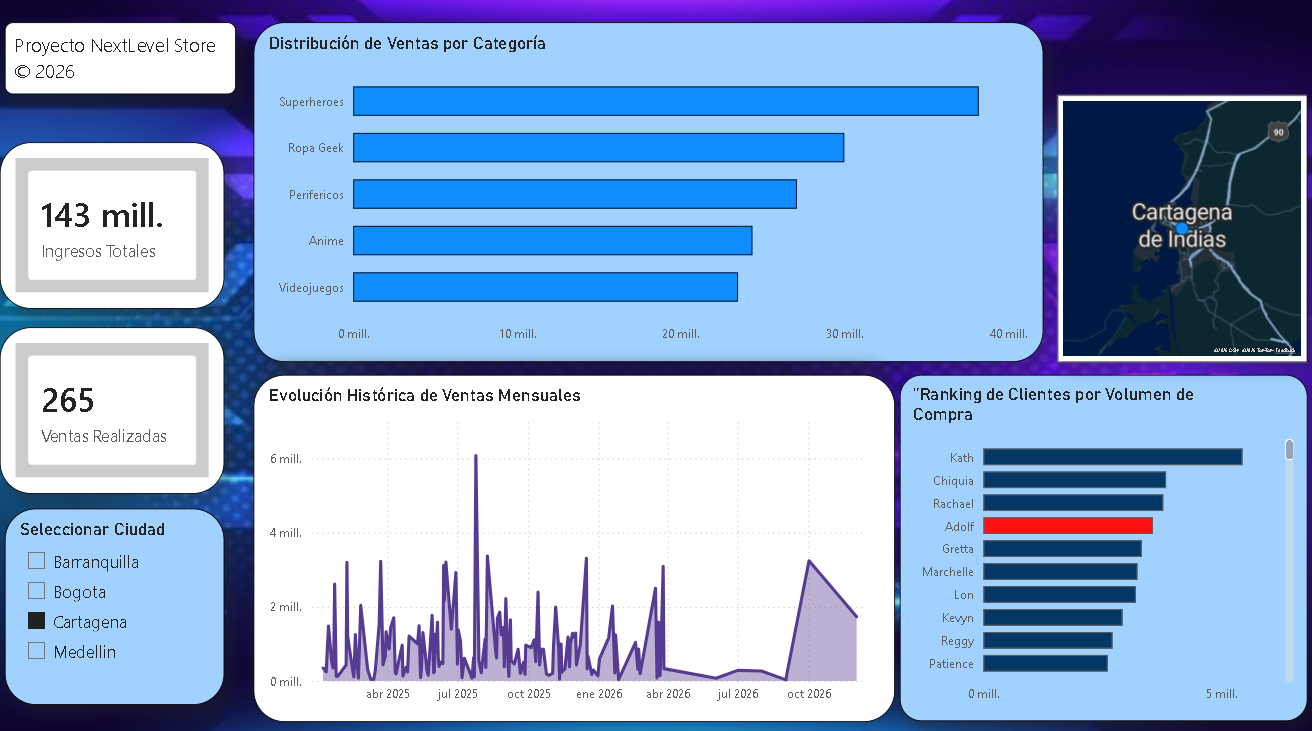

The dashboard page shown, as its layout file describes it:
{"tool":"powerbi","page":{"name":"Página 1","canvas":[1280,720],"ordinal":0},"visuals":[{"type":"cardVisual","fields":{"Data":["Sum(Detalle.Subtotal)"]},"box":[8.4,146,217.2,160.5],"z":0},{"type":"cardVisual","fields":{"Data":["CountNonNull(Detalle.id_venta)"]},"box":[8.4,324.5,217.2,160.5],"z":1000},{"type":"clusteredBarChart","title":"Distribución de Ventas por Categoría","fields":{"Category":["Productos.categoria"],"Y":["Sum(Detalle.Subtotal)"]},"box":[253.4,30.2,762.5,328.2],"z":2000},{"type":"slicer","title":"Seleccionar Ciudad","fields":{"Values":["Clientes.ciudad"]},"box":[13.3,499.5,212.3,189.4],"z":3000},{"type":"lineChart","title":"Evolución Histórica de Ventas Mensuales","fields":{"Y":["Sum(Detalle.Subtotal)"],"Category":["Ventas.fecha"]},"box":[253.4,370.4,618.9,335.4],"z":4000},{"type":"clusteredBarChart","title":"\"Ranking de Clientes por Volumen de Compra","fields":{"Category":["Clientes.nombre"],"Y":["Sum(Detalle.Subtotal)"]},"box":[877.1,370.4,393.3,334.2],"z":5000},{"type":"azureMap","fields":{"Category":["Clientes.ciudad"],"Size":["Sum(Detalle.Subtotal)"]},"box":[1029.1,100.1,241.3,258.2],"z":6000},{"type":"textbox","box":[13.3,30.2,223.2,70],"z":7000}]}

Visuals, with their boxes in screenshot pixels (x1, y1, x2, y2), scaled from the page's 1280x720 canvas onto the 1312x731 screenshot:
cardVisual - Sum(Detalle.Subtotal): (9, 148, 231, 311)
cardVisual - CountNonNull(Detalle.id_venta): (9, 329, 231, 492)
"Distribución de Ventas por Categoría" clusteredBarChart: (260, 31, 1041, 364)
"Seleccionar Ciudad" slicer: (14, 507, 231, 699)
"Evolución Histórica de Ventas Mensuales" lineChart: (260, 376, 894, 717)
""Ranking de Clientes por Volumen de Compra" clusteredBarChart: (899, 376, 1302, 715)
azureMap - Clientes.ciudad x Sum(Detalle.Subtotal): (1055, 102, 1302, 364)
textbox: (14, 31, 242, 102)
